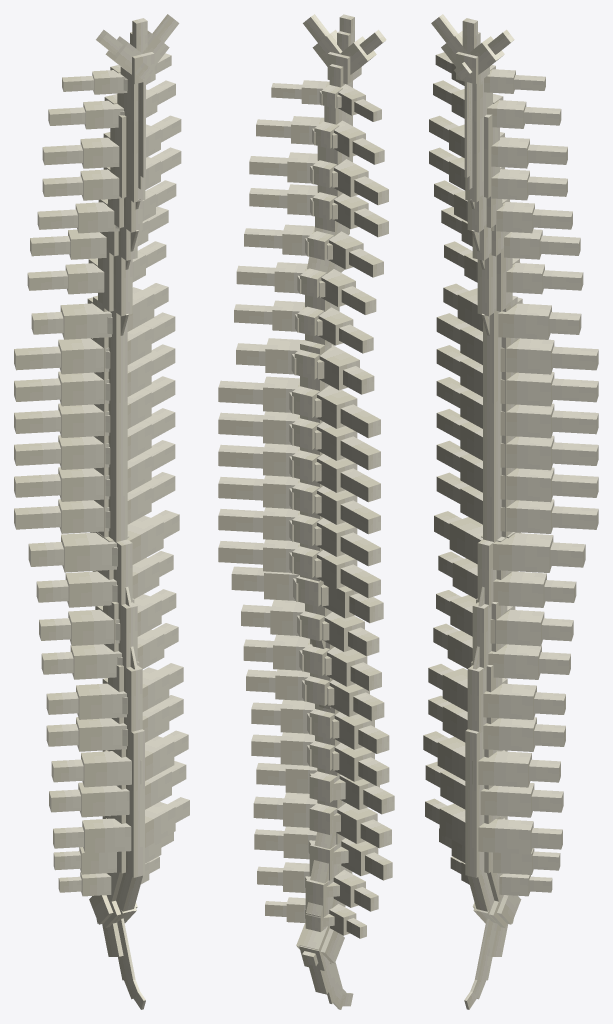
3 views of the same model, side by side, from view 1: azimuth 30°, elevation 25°; view 2: azimuth 150°, elevation 25°; view 3: azimuth 330°, elevation 25° (orthographic).
Parts seen in each view (by area): view 1: cube (×99); view 2: cube (×130); view 3: cube (×99).
Boxes of the visible parts, x1=… form: cube (×99): x1=14, y1=31, x2=181, y2=980; cube (×130): x1=218, y1=29, x2=394, y2=994; cube (×99): x1=429, y1=36, x2=598, y2=980.
Size of the model in its own units: 0.2289 by 1.35 by 0.149.
1 material, 1 textured.
